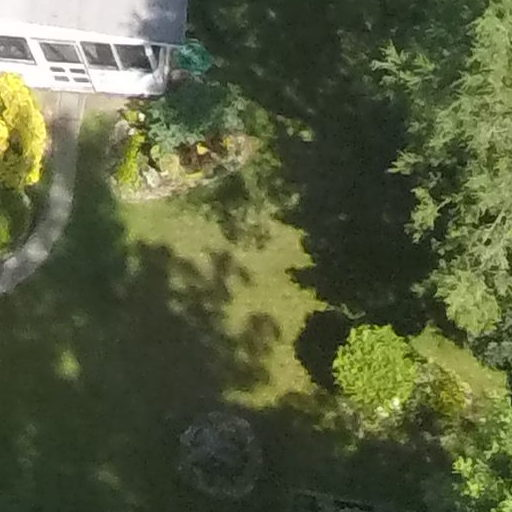hose: (160, 30, 226, 90)
